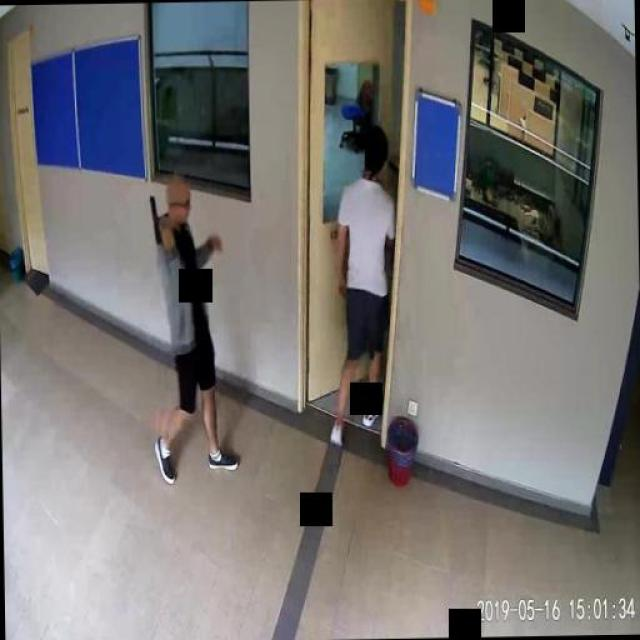gun: (148, 192, 170, 242)
